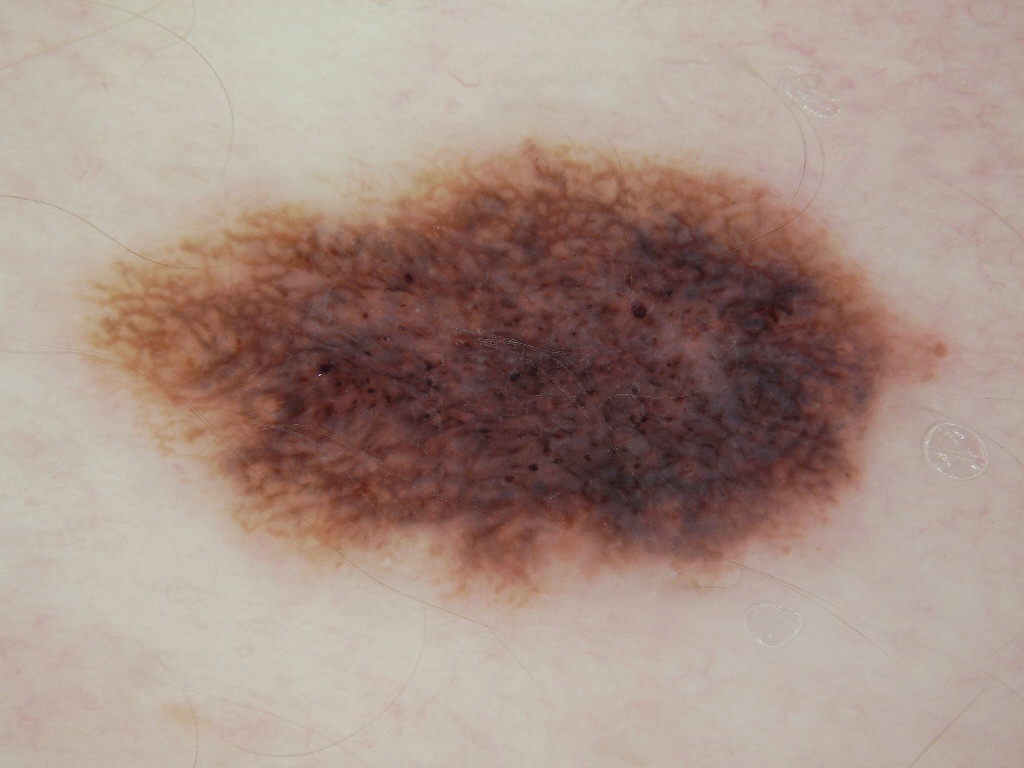Detected Lesion: (81, 139, 958, 611)
